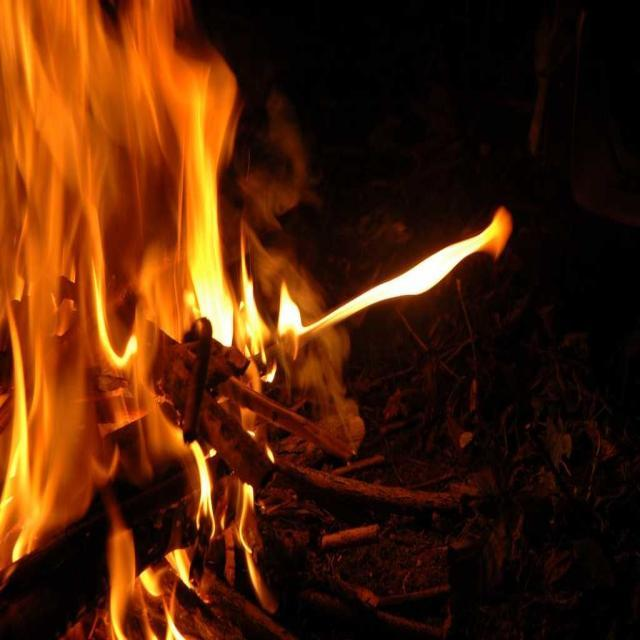Fire: (9, 16, 108, 330), (15, 400, 80, 510), (181, 136, 218, 310)
